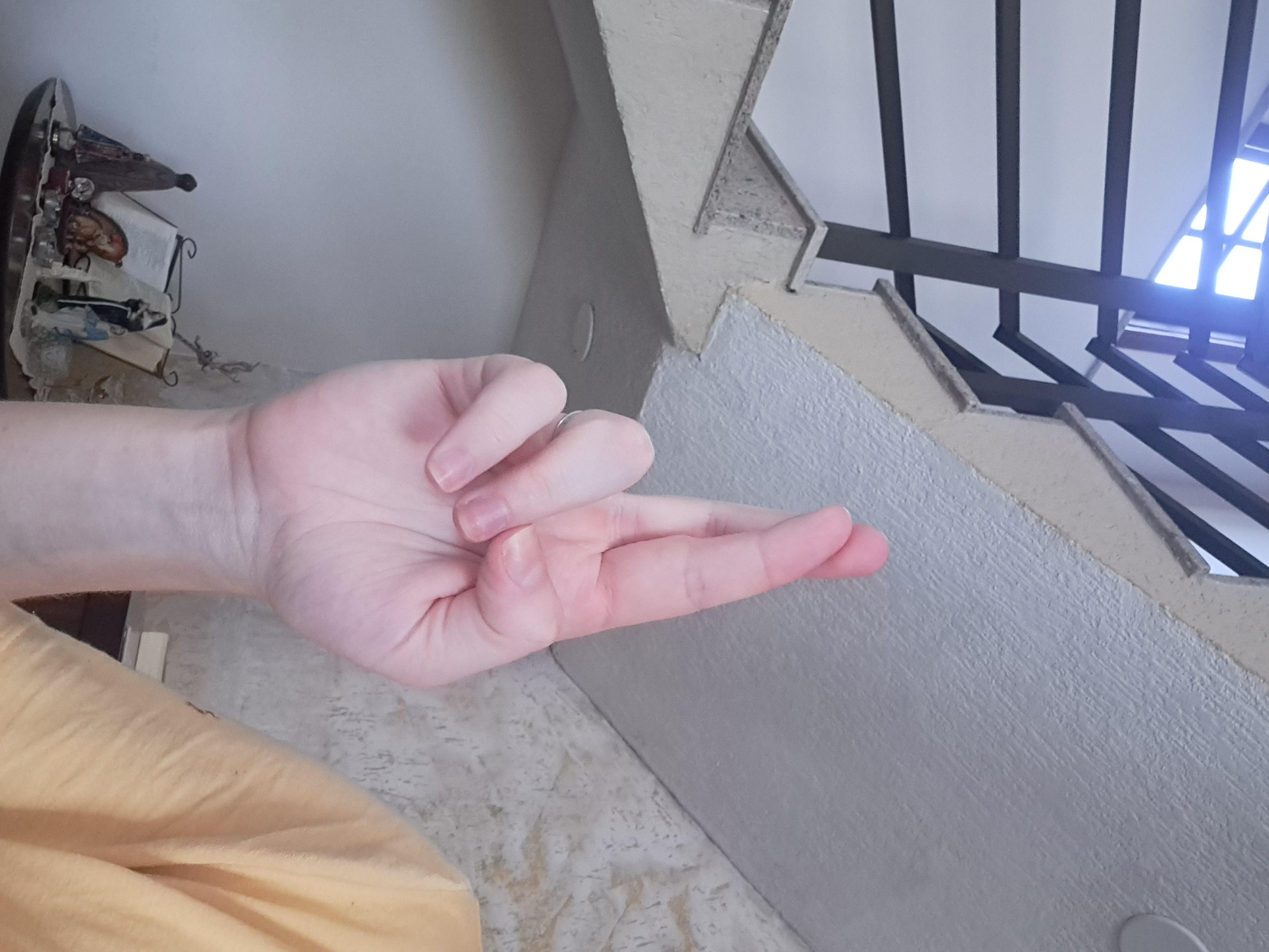R: (461, 277, 933, 799)
